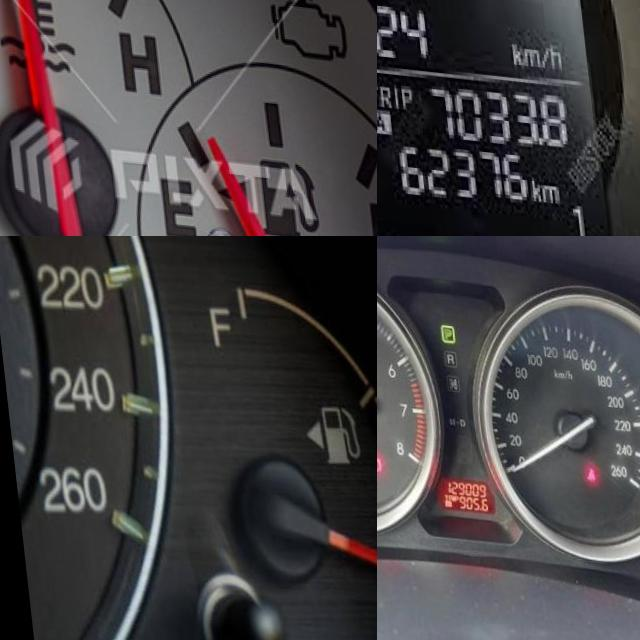Seat Belt: (577, 456, 589, 473)
